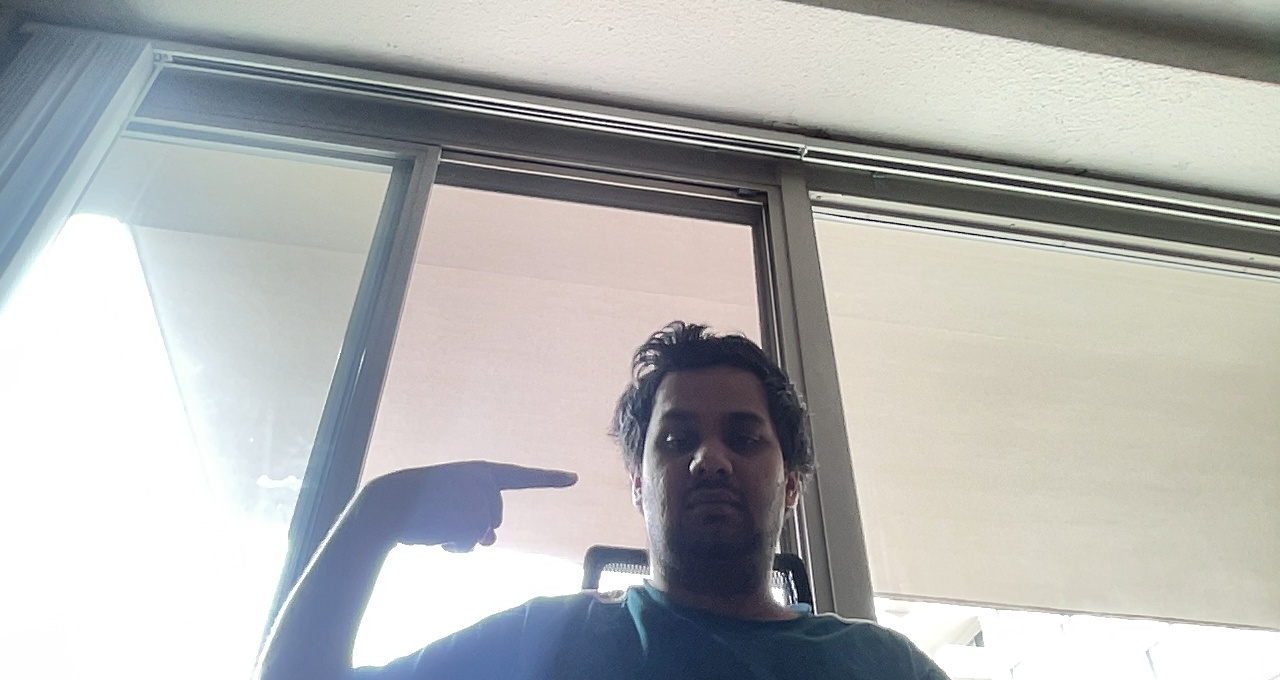fingerleft: (359, 458, 585, 557)
